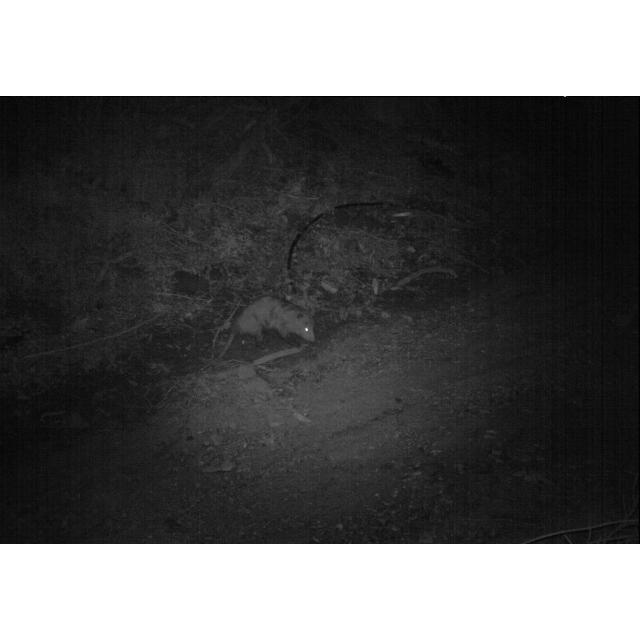animals: (226, 296, 320, 348)
